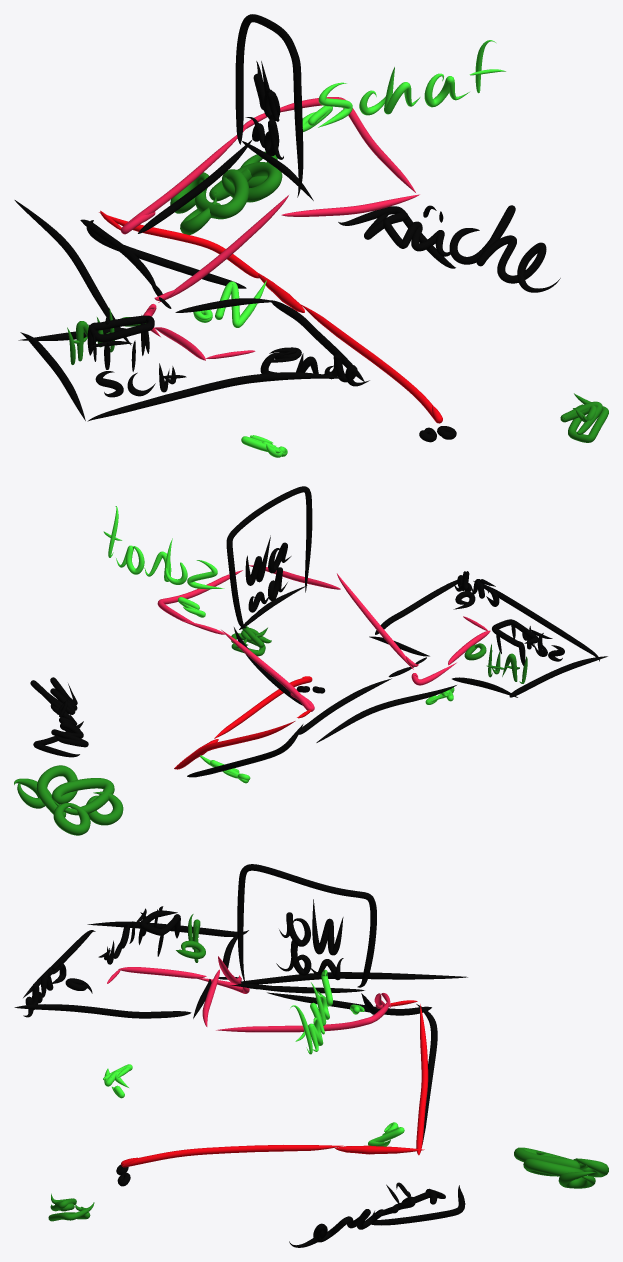
3 renders of one model, top to bottom at view 1: azimuth 30°, elevation 25°; view 2: azimuth 150°, elevation 25°; view 3: azimuth 270°, elevation 25°, orthographic. The views are drawn at different scales.
Parts seen in each view (by area): view 1: s.0147, s.0076, s.0085, s.0108, s.0073, s.0068, s.0079, s.0109, s.0082, s.0100, s.0077, s.0098 (+14 smaller); view 2: s.0147, s.0085, s.0076, s.0082, s.0080, s.0108, s.0145, s.0077, s.0079, s.0109, s.0073, s.0098 (+8 smaller); view 3: s.0085, s.0068, s.0147, s.0082, s.0105, s.0098, s.0076, s.0077, s.0086, s.0072, s.0081, s.0080 (+7 smaller).
Boxes of the visible parts, bbox=[...] form: s.0147: bbox=[194, 162, 282, 219]; s.0076: bbox=[449, 205, 560, 292]; s.0085: bbox=[235, 14, 303, 197]; s.0108: bbox=[87, 372, 344, 421]; s.0073: bbox=[364, 212, 455, 256]; s.0068: bbox=[301, 304, 442, 423]; s.0079: bbox=[121, 127, 246, 234]; s.0109: bbox=[87, 315, 154, 355]; s.0082: bbox=[14, 200, 131, 345]; s.0100: bbox=[158, 195, 288, 302]; s.0077: bbox=[99, 212, 259, 278]; s.0098: bbox=[280, 97, 415, 192]; s.0147: bbox=[36, 765, 114, 817]; s.0085: bbox=[226, 486, 312, 628]; s.0076: bbox=[30, 677, 77, 720]; s.0082: bbox=[316, 685, 456, 742]; s.0080: bbox=[187, 724, 303, 777]; s.0108: bbox=[473, 581, 599, 661]; s.0145: bbox=[53, 803, 90, 835]; s.0077: bbox=[174, 721, 295, 769]; s.0079: bbox=[221, 630, 314, 711]; s.0109: bbox=[492, 619, 538, 665]; s.0073: bbox=[51, 713, 88, 747]; s.0098: bbox=[157, 570, 242, 622]; s.0085: bbox=[237, 864, 376, 987]; s.0068: bbox=[121, 1145, 343, 1167]; s.0147: bbox=[514, 1147, 588, 1178]; s.0082: bbox=[241, 972, 467, 984]; s.0105: bbox=[14, 1004, 191, 1018]; s.0098: bbox=[216, 1002, 388, 1032]; s.0076: bbox=[289, 1209, 384, 1247]; s.0077: bbox=[416, 1004, 428, 1155]; s.0086: bbox=[312, 899, 343, 955]; s.0072: bbox=[371, 1185, 465, 1225]; s.0081: bbox=[267, 992, 431, 1015]; s.0080: bbox=[416, 1004, 437, 1144].
Bounding box in the file's own units: 138 × 143 × 76.64.
